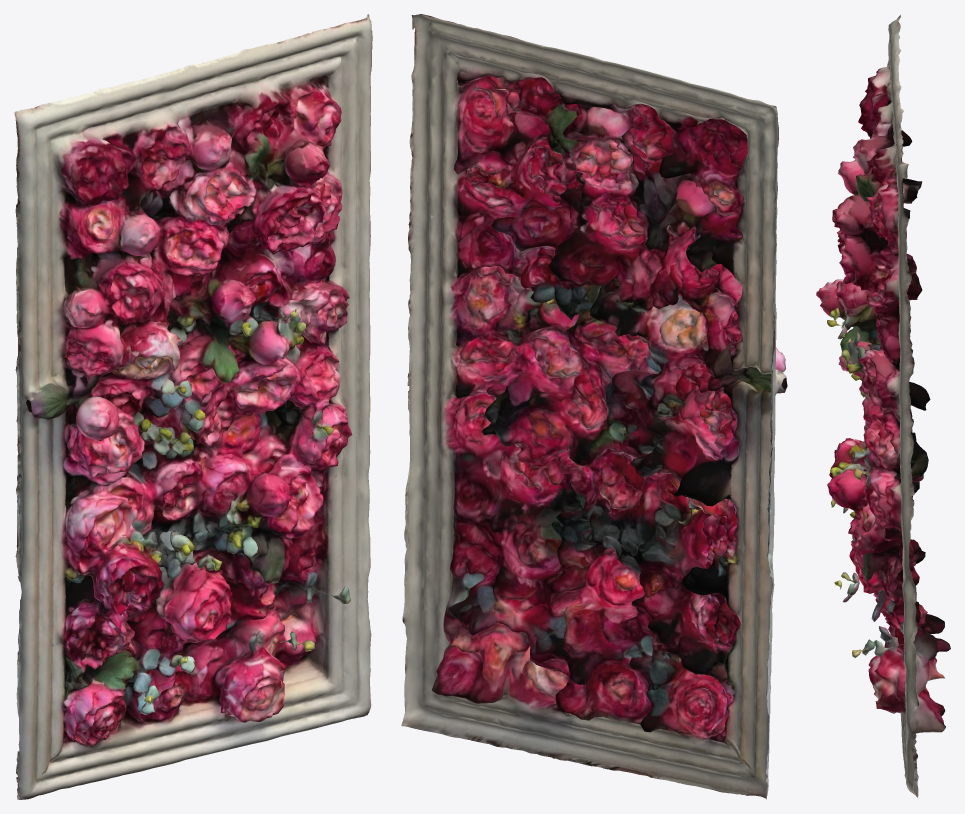
Rendered from 静物_花_flower_bouquet_in_picture_frame_std_opt.glb.
3 views of the same model, side by side, from view 1: azimuth 30°, elevation 25°; view 2: azimuth 150°, elevation 25°; view 3: azimuth 270°, elevation 25° (orthographic). The views are drawn at different scales.
Parts seen in each view (by area): view 1: Roses_Material_0_0; view 2: Roses_Material_0_0; view 3: Roses_Material_0_0.
Part boxes in pixels (x1,y1,x2,y2): Roses_Material_0_0: [14, 14, 372, 799]; Roses_Material_0_0: [401, 14, 787, 799]; Roses_Material_0_0: [816, 15, 950, 797].
Size of the model in its own units: 0.2694 by 0.5 by 0.0965.
Materials: 1 (1 with a texture image).
